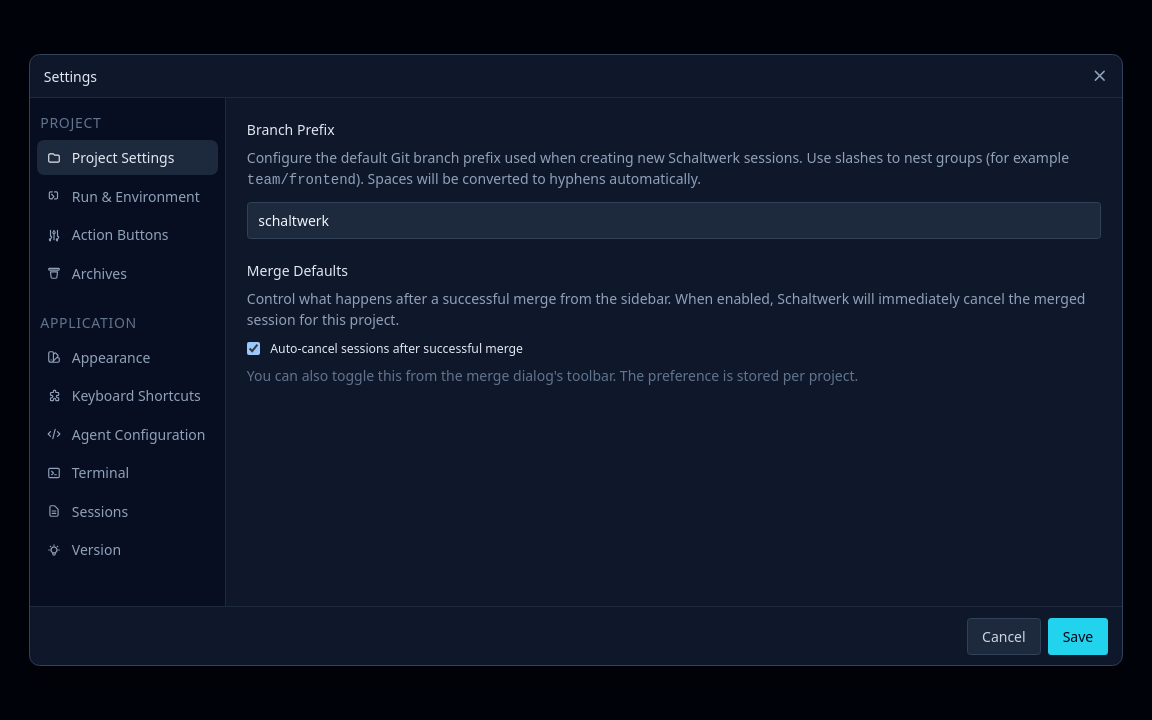
Test case: SettingsModal project settings navigation › nests run script and action buttons under Project Settings sub-navigation
Click the button "Project Settings" at (127, 158), box left=37, top=140, right=218, bottom=175
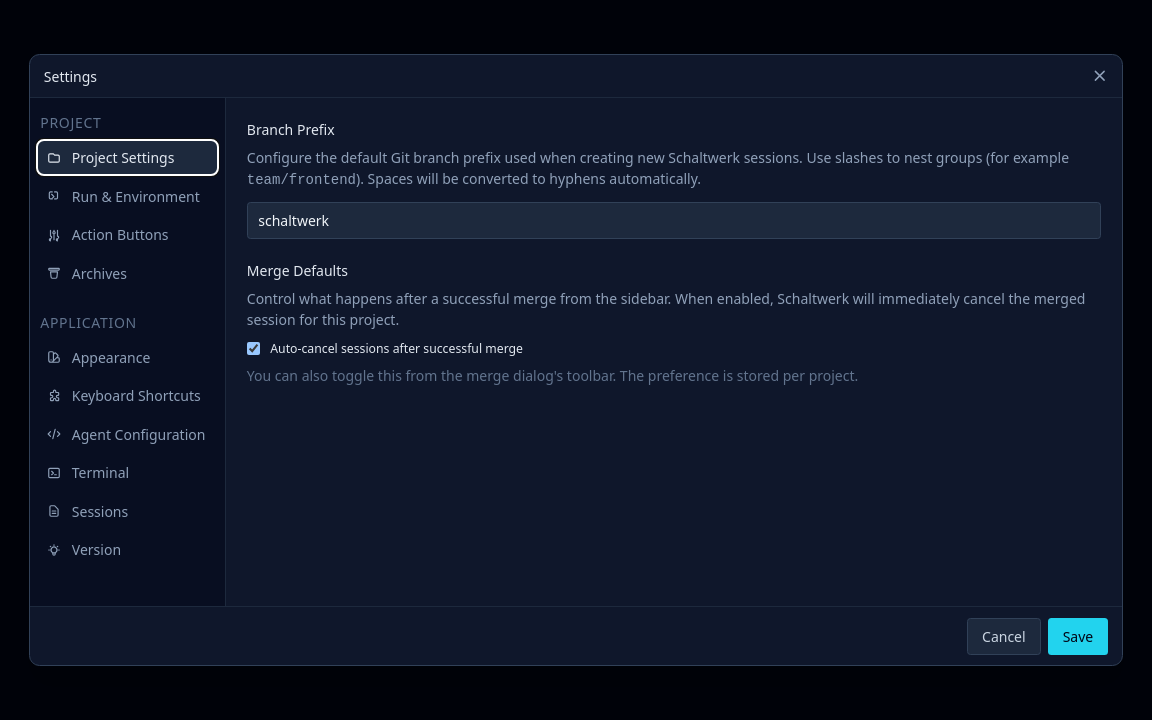
Expected: the heading "Branch Prefix" is shown, left=247, top=120, right=335, bottom=139
Click the button "Action Buttons" at (127, 234), box left=37, top=217, right=218, bottom=252
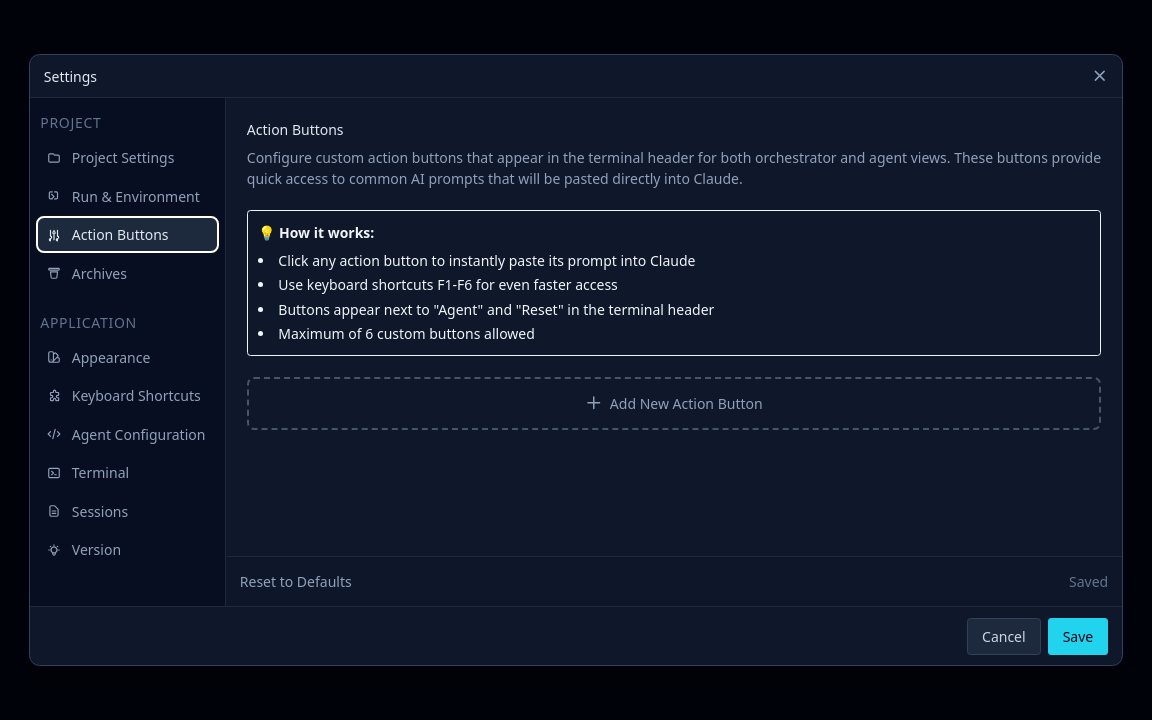
Result: the button "Reset to Defaults" is shown at left=240, top=571, right=352, bottom=592
Click the button "Run & Environment" at (127, 196), box left=37, top=178, right=218, bottom=214
(page scrolled)
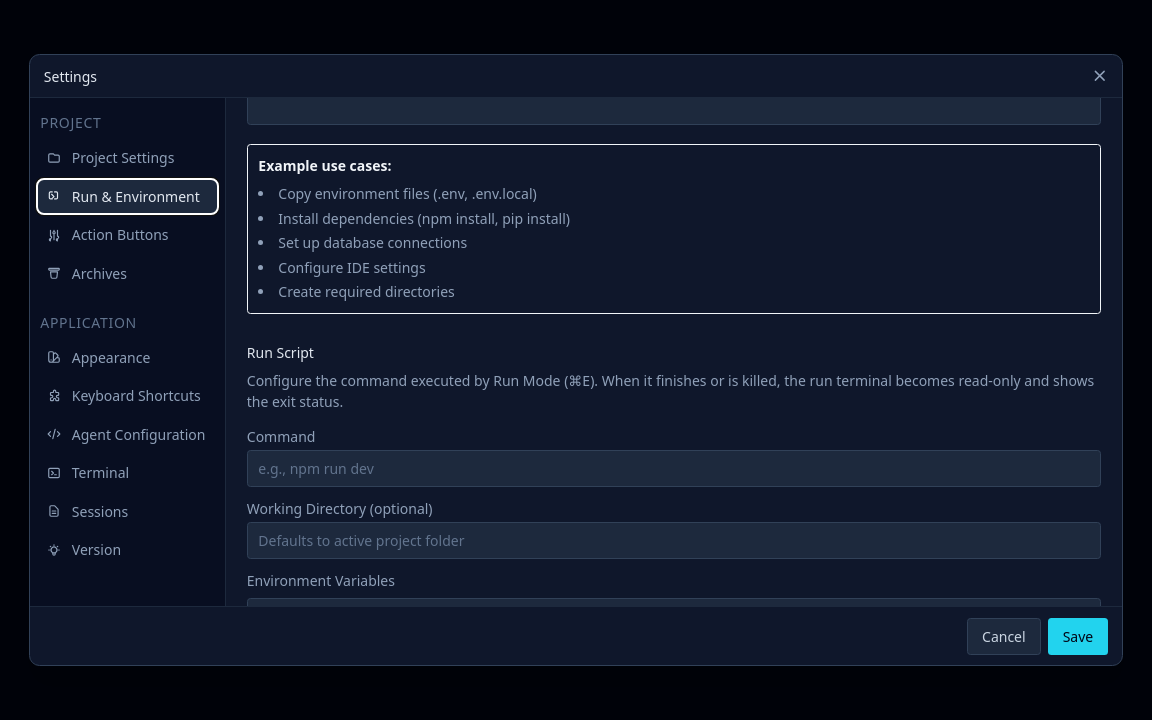
Result: the heading "Run Script" is shown at left=247, top=342, right=314, bottom=362
